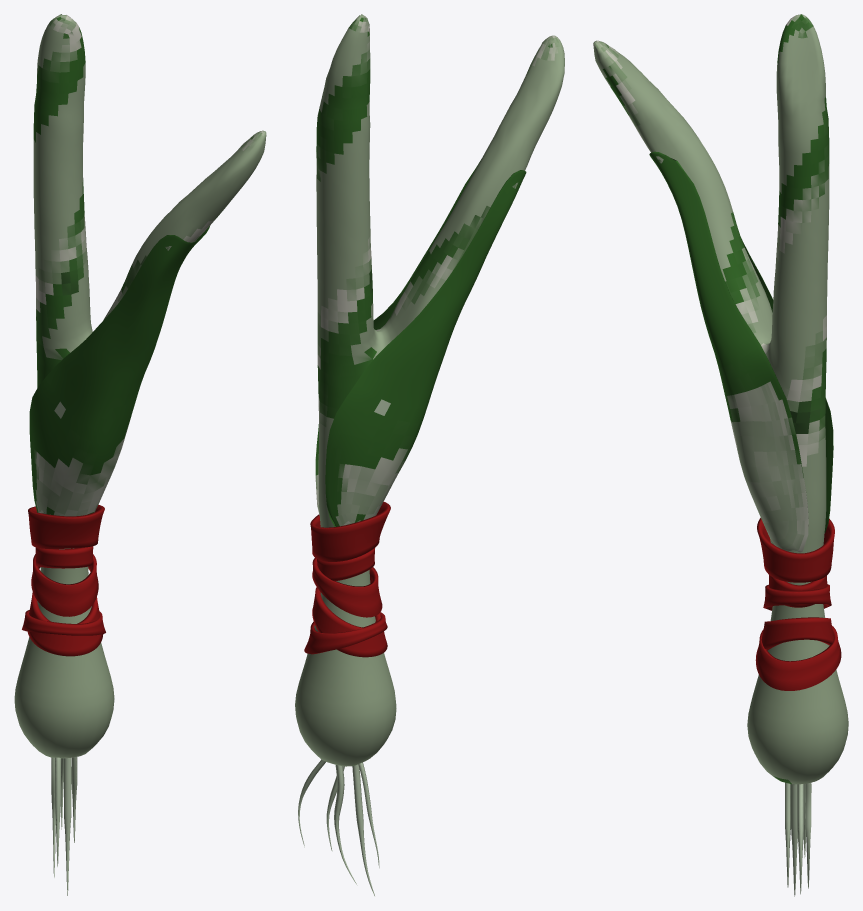
Rendered from RR_GreenOnion_Weapon.fbx.
3 views of the same model, side by side, from view 1: azimuth 90°, elevation 25°; view 2: azimuth 150°, elevation 25°; view 3: azimuth 270°, elevation 25° (orthographic).
Parts seen in each view (by area): view 1: GreenOnion; view 2: GreenOnion; view 3: GreenOnion.
Part boxes in pixels (left/top/right/bottom): GreenOnion: left=14, top=14, right=266, bottom=895; GreenOnion: left=295, top=14, right=564, bottom=895; GreenOnion: left=593, top=14, right=848, bottom=896.
Size of the model in its own units: 28.87 by 138 by 35.88.
